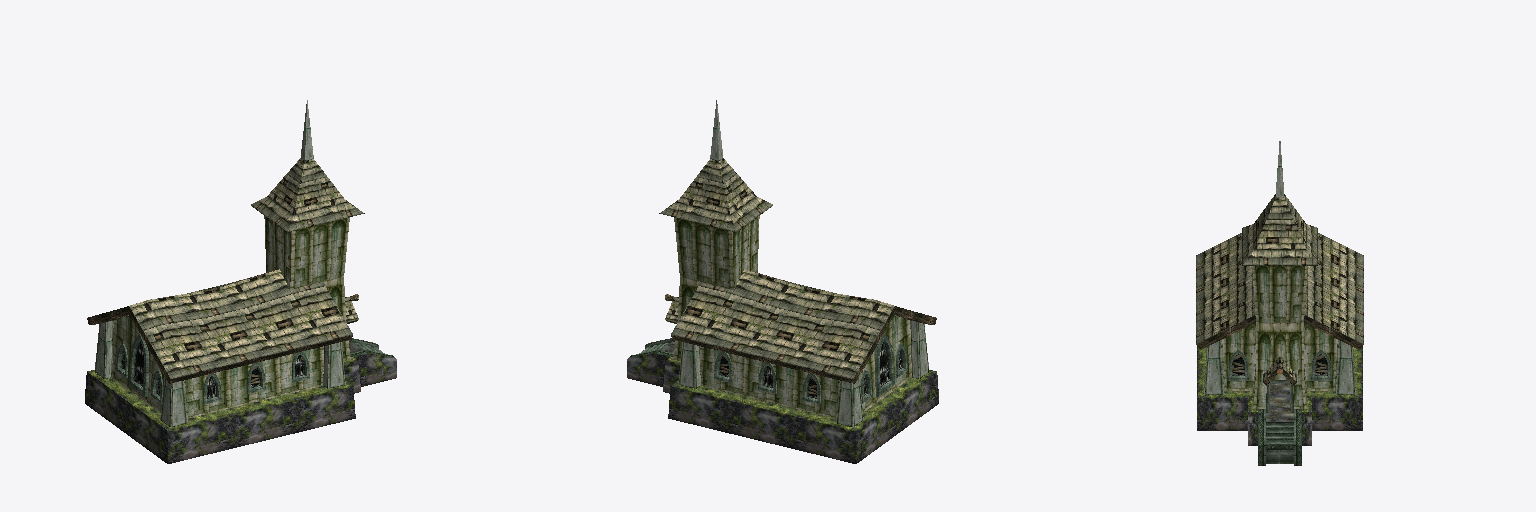
The picture shows the model from 3 angles: view 1: azimuth 30°, elevation 25°; view 2: azimuth 150°, elevation 25°; view 3: azimuth 270°, elevation 25°; orthographic projection.
Parts seen in each view (by area): view 1: duskwoodchapel; view 2: duskwoodchapel; view 3: duskwoodchapel.
Boxes of the visible parts, x1,y1,x2,y2 form: duskwoodchapel: [85, 100, 396, 463]; duskwoodchapel: [627, 100, 938, 463]; duskwoodchapel: [1196, 141, 1363, 465].
Bounding box in the file's own units: 42.3 × 45.52 × 23.59.
Materials: 11 (11 with a texture image).